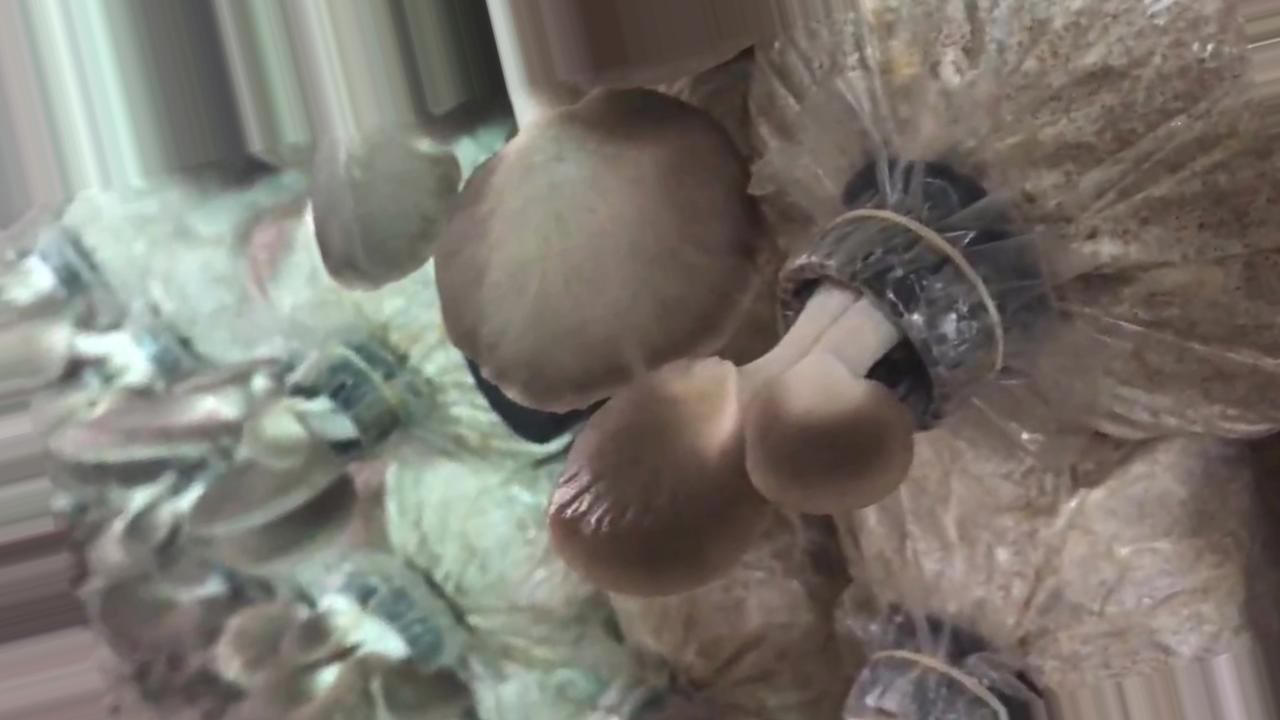nam: (310, 1, 789, 420), (542, 189, 1009, 610), (50, 349, 414, 567), (270, 573, 467, 720)
